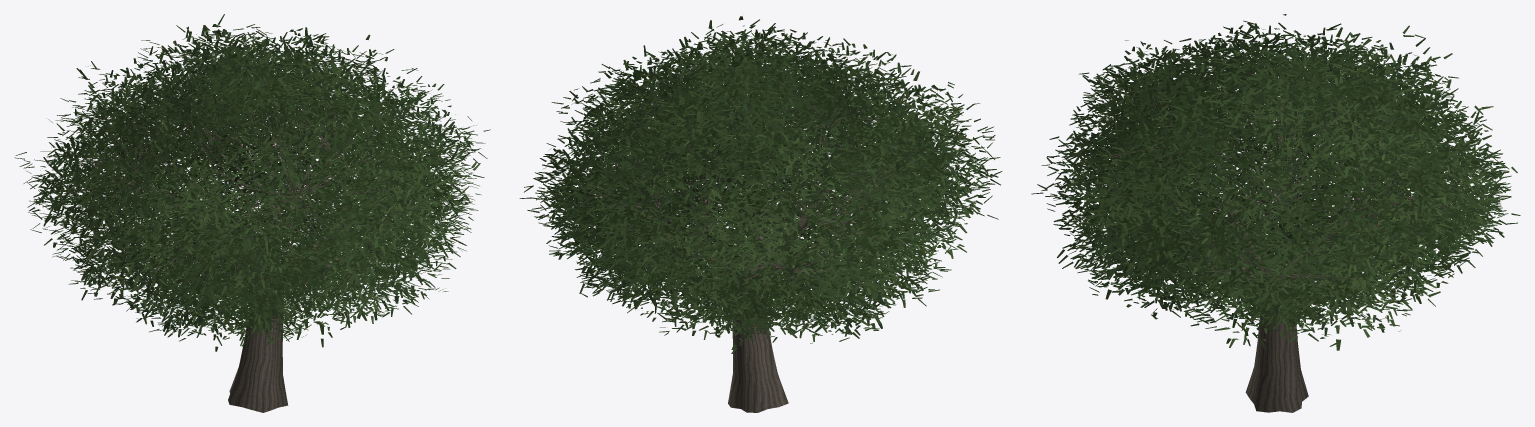
The model's file is loak.glb.
3 renders of one model, left to right at view 1: azimuth 30°, elevation 25°; view 2: azimuth 150°, elevation 25°; view 3: azimuth 270°, elevation 25°, orthographic. The views are drawn at different scales.
Parts seen in each view (by area): view 1: loak_lod0_1, loak_lod0_0; view 2: loak_lod0_1, loak_lod0_0; view 3: loak_lod0_1, loak_lod0_0.
Boxes of the visible parts, bbox=[...] form: loak_lod0_1: bbox=[14, 14, 490, 351]; loak_lod0_0: bbox=[68, 54, 440, 412]; loak_lod0_1: bbox=[519, 16, 1002, 353]; loak_lod0_0: bbox=[577, 55, 954, 412]; loak_lod0_1: bbox=[1031, 14, 1520, 350]; loak_lod0_0: bbox=[1087, 54, 1473, 412].
Size of what is drawn, in the model's own units: 12.32 by 10.57 by 12.89.
2 materials, 1 textured.
